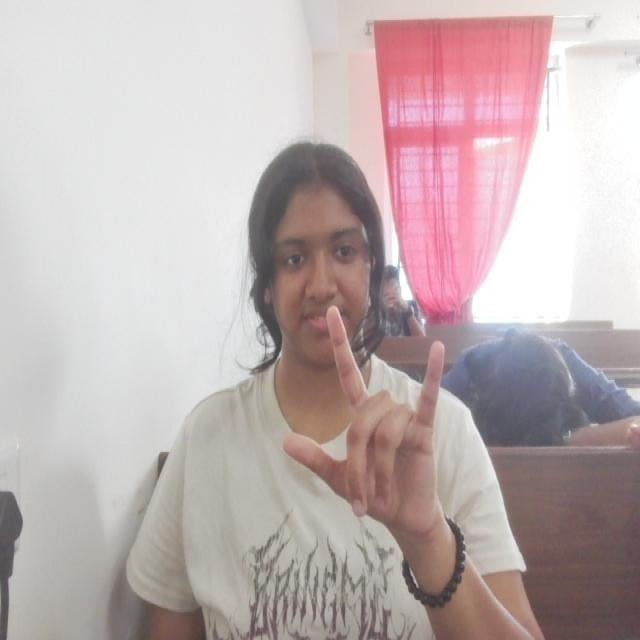iloveyou: (282, 304, 452, 536)
